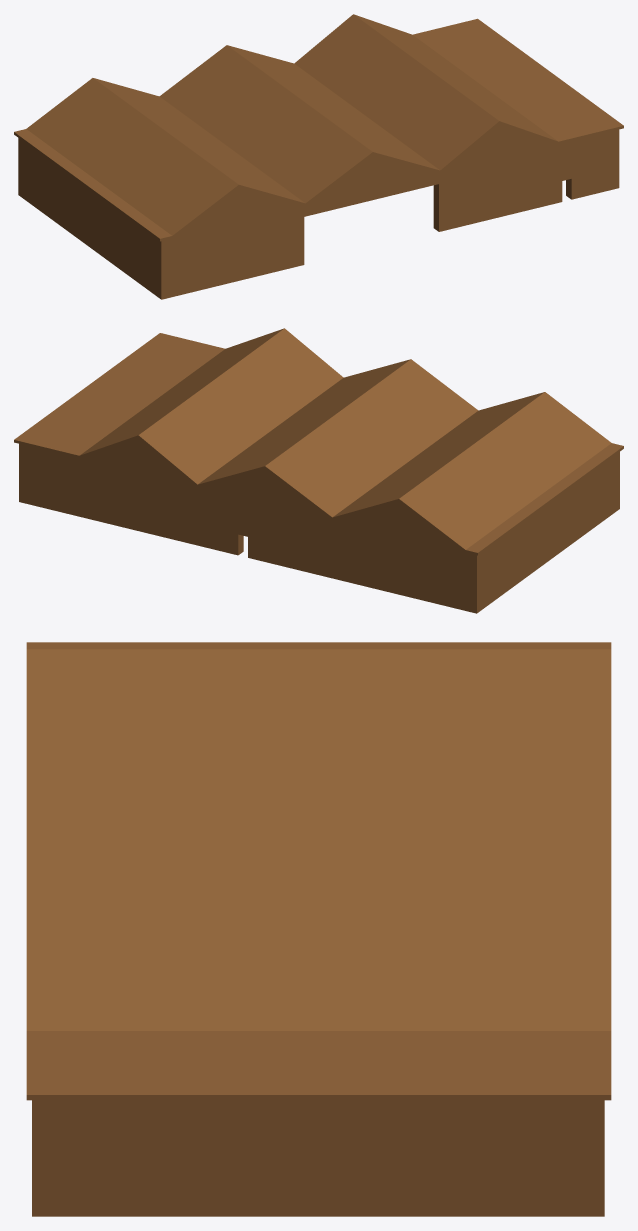
The model's file is Warehouse Walls.fbx.
3 renders of one model, top to bottom at view 1: azimuth 30°, elevation 25°; view 2: azimuth 150°, elevation 25°; view 3: azimuth 270°, elevation 25°, orthographic. The views are drawn at different scales.
Parts seen in each view (by area): view 1: Roof, NW_Wall; view 2: Roof, E_Wall, NW_Wall, S_Wall; view 3: Roof, S_Wall, NW_Wall.
Boxes of the visible parts, x1,y1,x2,y2 form: Roof: [14, 14, 623, 241]; NW_Wall: [18, 124, 619, 299]; Roof: [14, 328, 623, 555]; E_Wall: [28, 438, 467, 611]; NW_Wall: [467, 452, 619, 613]; S_Wall: [19, 443, 28, 504]; Roof: [26, 642, 611, 1100]; S_Wall: [54, 1100, 604, 1216]; NW_Wall: [32, 1100, 53, 1216].
Bounding box in the file's own units: 4863 × 2654 × 977.
